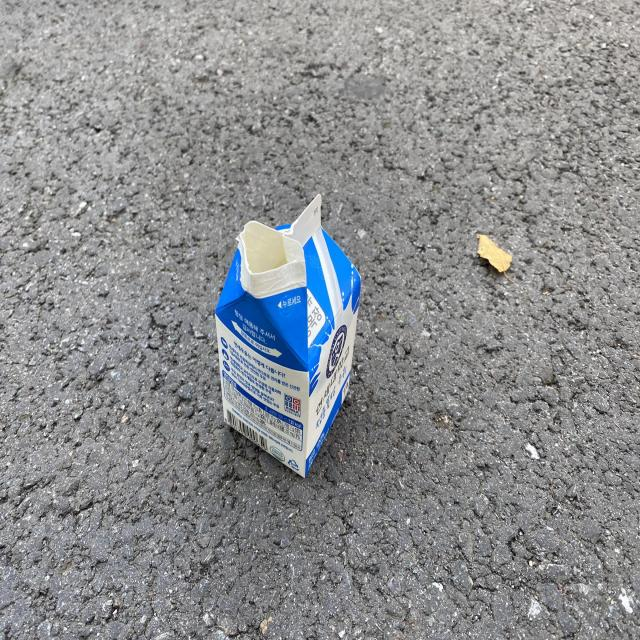paperpack: (215, 194, 361, 477)
